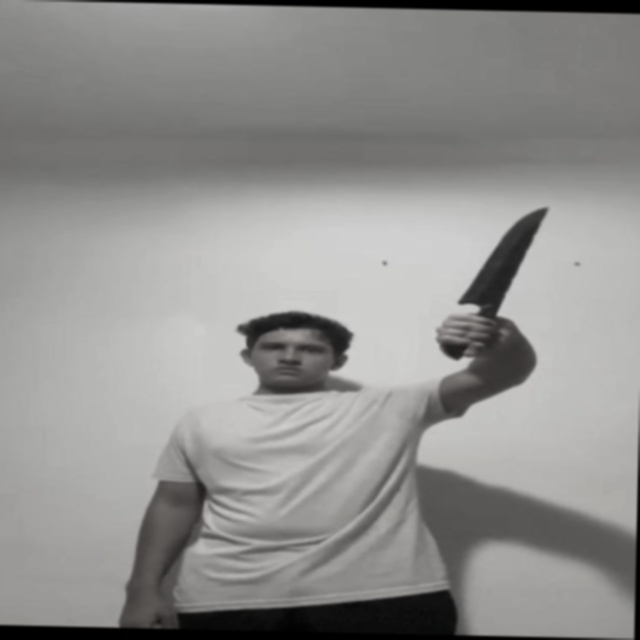Sharp-Object: (455, 203, 553, 306)
